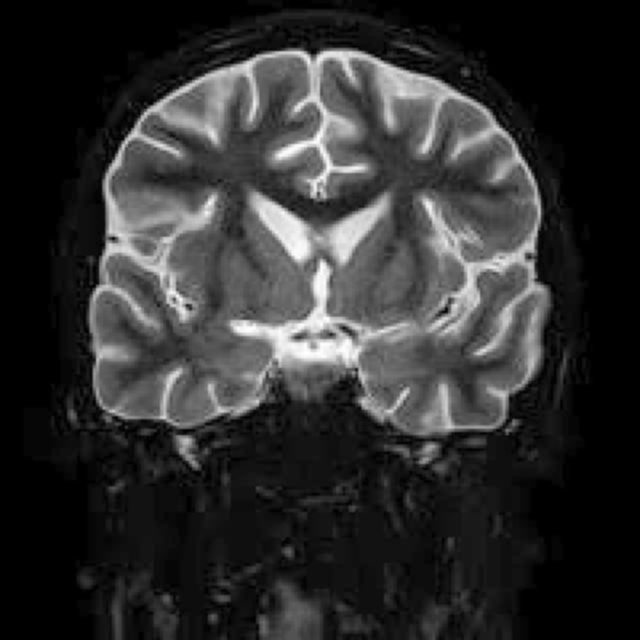glioma tumor: (141, 99, 515, 432)
